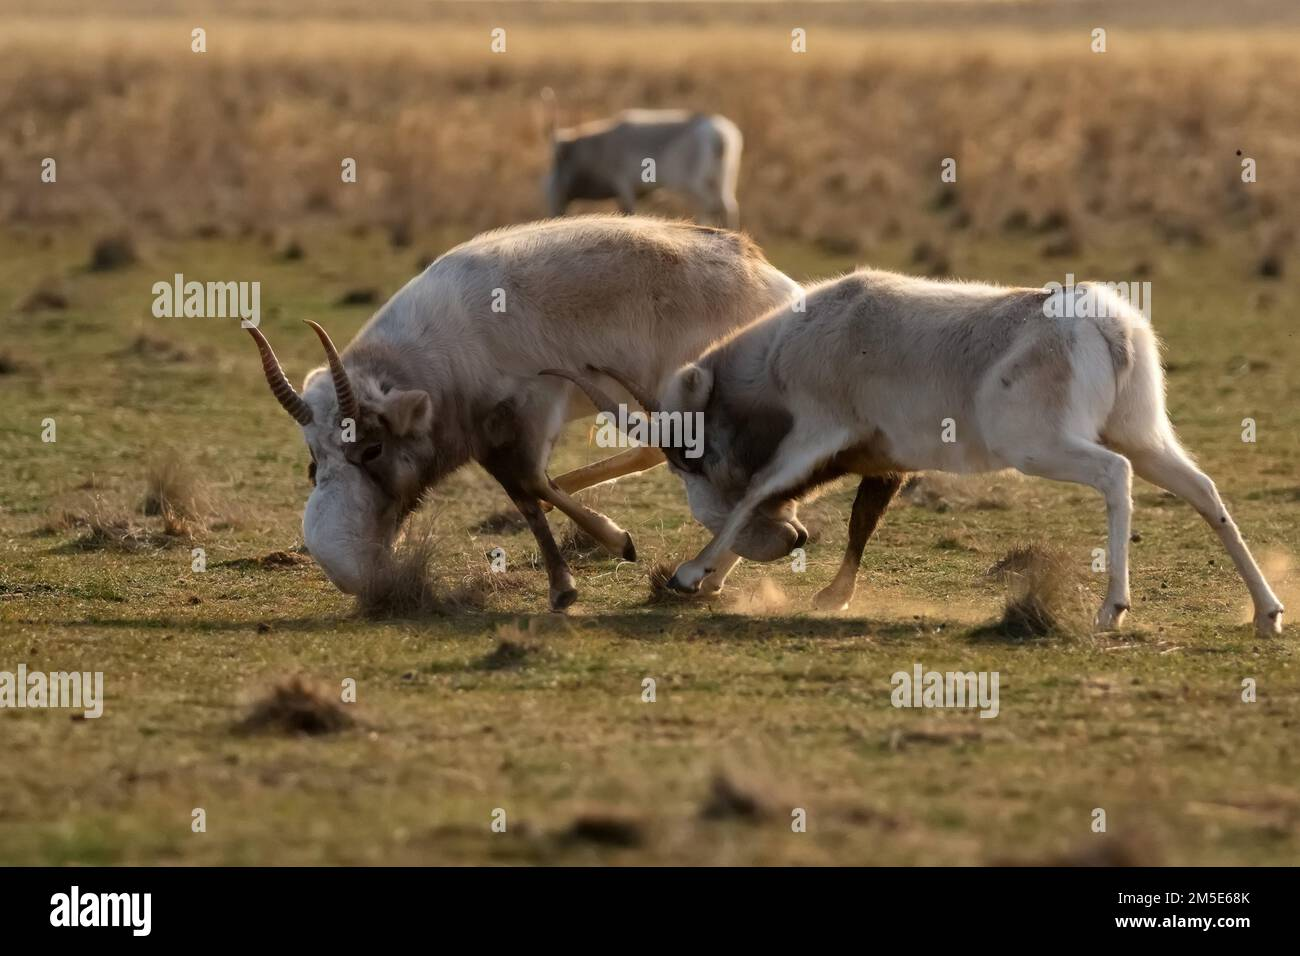saiga: (627, 275, 1298, 664), (227, 262, 783, 660)
